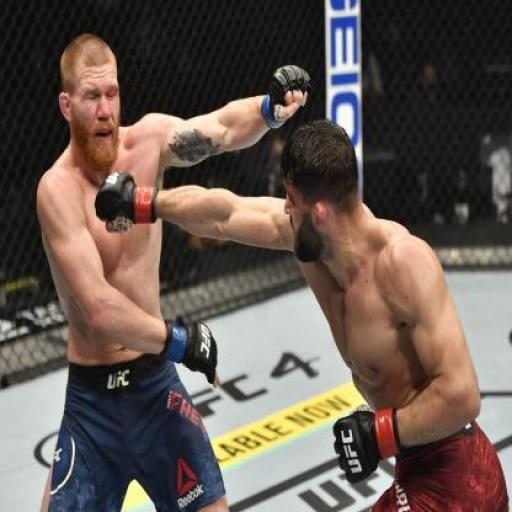Fighting: (3, 29, 510, 512)
